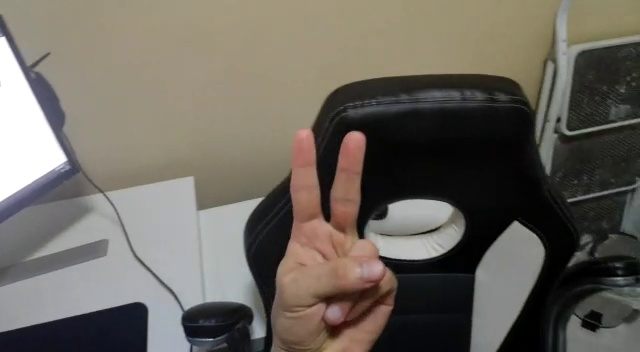Peace: (266, 126, 403, 350)
